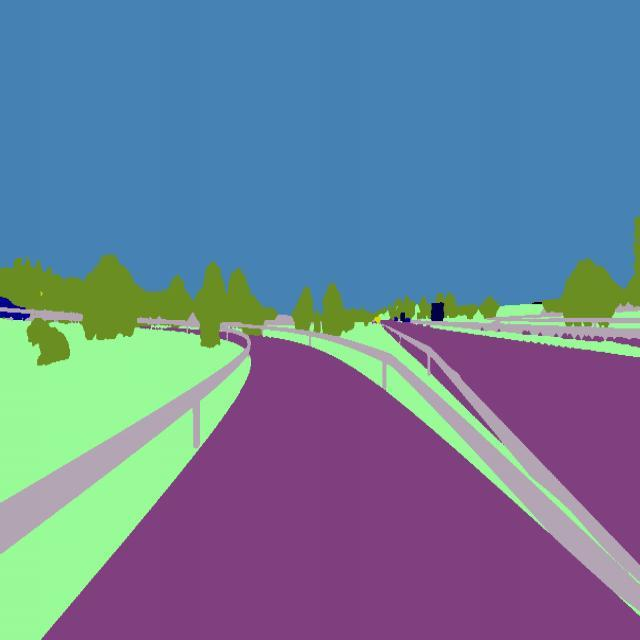safe: (0, 295, 33, 325)
